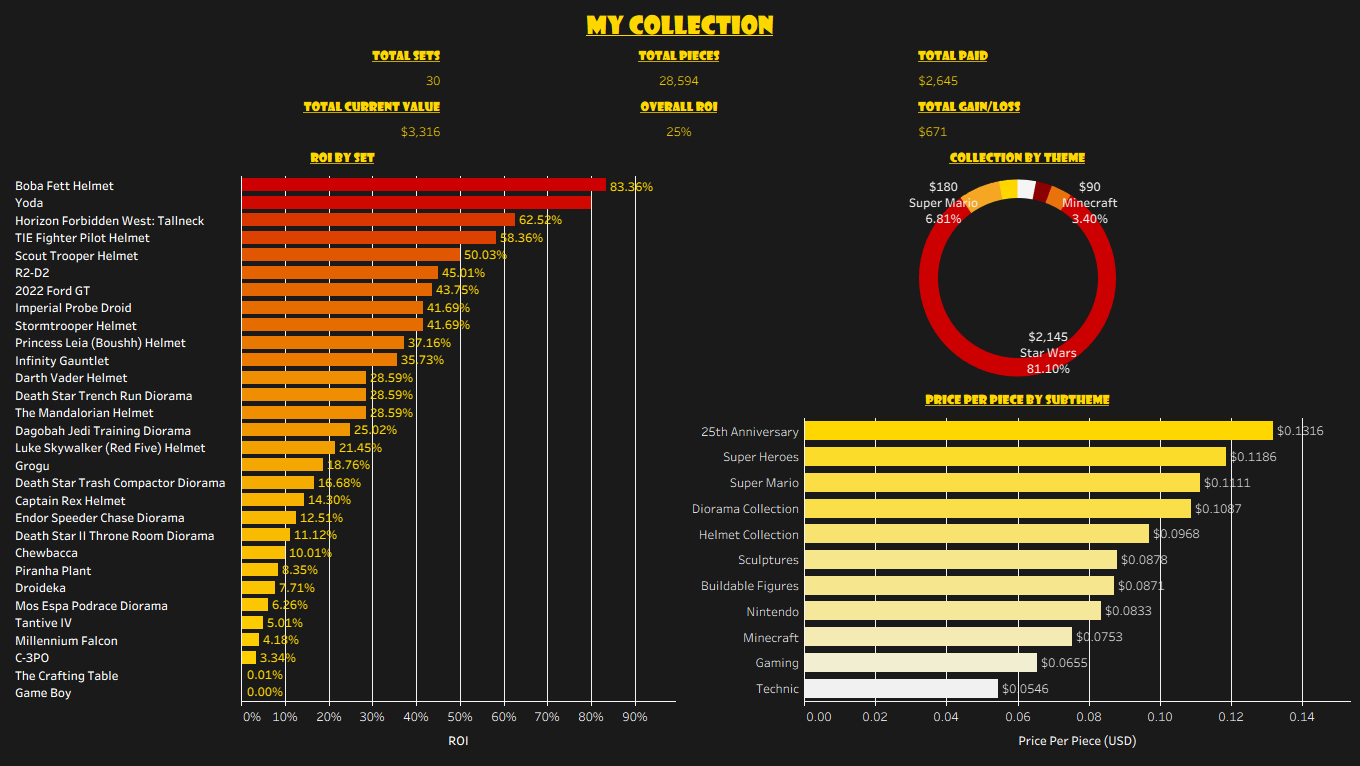

The page's visual inventory and layout, read from the dashboard file:
{"tool":"tableau","page":{"name":"My Collection","canvas":[1366,768],"ordinal":1},"visuals":[{"type":"title","box":[8,8,1350,32]},{"type":"worksheet","title":"KPI - Total Sets","mark":"Text","box":[8,40,442.9,51]},{"type":"worksheet","title":"KPI - Total Pieces","mark":"Automatic","box":[450.9,40,462.1,51]},{"type":"worksheet","title":"KPI - Total Paid","mark":"Automatic","box":[912.9,40,445.1,51]},{"type":"worksheet","title":"KPI - Total Current Value","mark":"Automatic","box":[8,91,442.9,51]},{"type":"worksheet","title":"KPI - Overall ROI","mark":"Automatic","box":[450.9,91,462.1,51]},{"type":"worksheet","title":"KPI - Total Gain/Loss","mark":"Automatic","box":[913,91,445,51]},{"type":"worksheet","title":"ROI by Set","mark":"Bar","rows":["name"],"cols":["roi_pct"],"box":[8,142,675,618]},{"type":"worksheet","title":"Collection by Theme","mark":"Pie","rows":["Calculation_1940654161010689","Calculation_1940654161010689"],"box":[683,142,675,242]},{"type":"worksheet","title":"Price Per Piece by Subtheme","mark":"Automatic","rows":["subtheme"],"cols":["avg_ppp"],"box":[683,384,675,376]}]}

Visuals, with their boxes in screenshot pixels (x1, y1, x2, y2), scaled from the page's 1366x768 canvas onto the 1360x766 screenshot:
title: left=8, top=8, right=1352, bottom=40
"KPI - Total Sets" worksheet (Text marks): left=8, top=40, right=449, bottom=91
"KPI - Total Pieces" worksheet: left=449, top=40, right=909, bottom=91
"KPI - Total Paid" worksheet: left=909, top=40, right=1352, bottom=91
"KPI - Total Current Value" worksheet: left=8, top=91, right=449, bottom=142
"KPI - Overall ROI" worksheet: left=449, top=91, right=909, bottom=142
"KPI - Total Gain/Loss" worksheet: left=909, top=91, right=1352, bottom=142
"ROI by Set" worksheet (Bar marks): left=8, top=142, right=680, bottom=758
"Collection by Theme" worksheet (Pie marks): left=680, top=142, right=1352, bottom=383
"Price Per Piece by Subtheme" worksheet: left=680, top=383, right=1352, bottom=758
